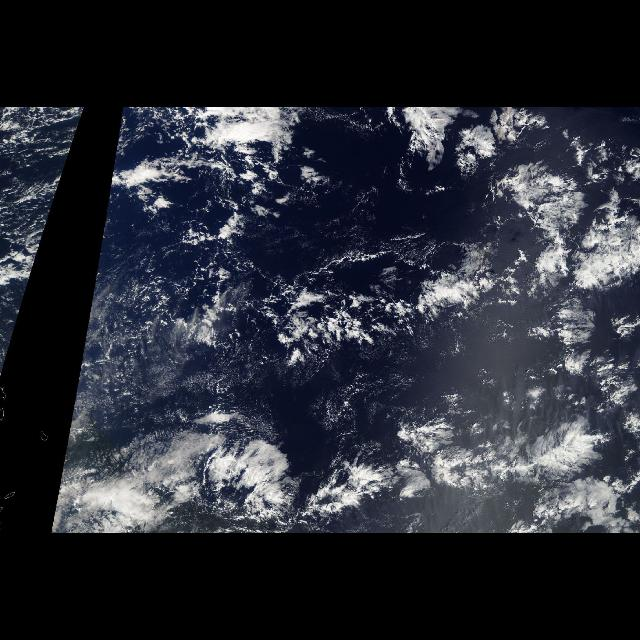Fish: (164, 107, 618, 533)
Flower: (403, 113, 633, 315)
Sugar: (114, 333, 266, 429)
